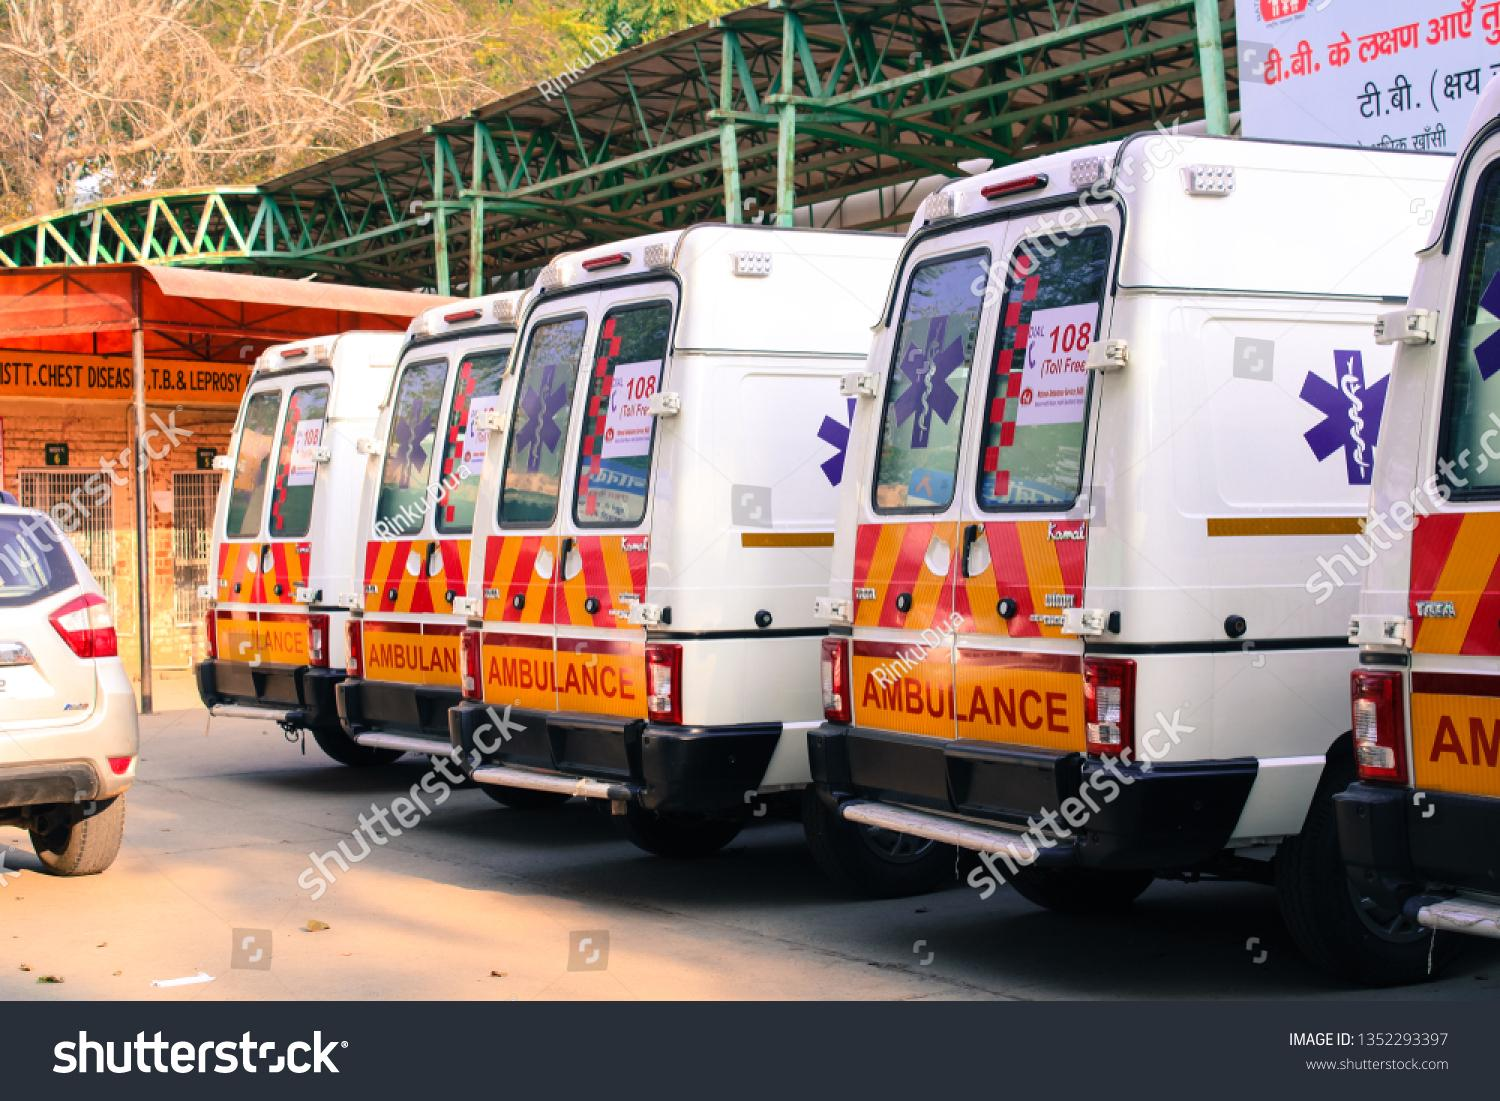ER: (825, 135, 1368, 871), (460, 216, 869, 812), (1338, 65, 1500, 953), (175, 336, 367, 720), (347, 291, 488, 740)
